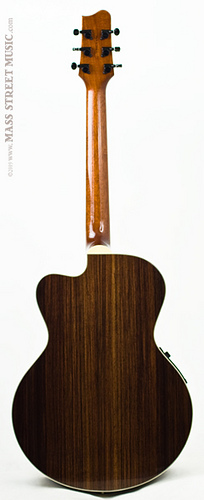guitar: (9, 10, 194, 493)
